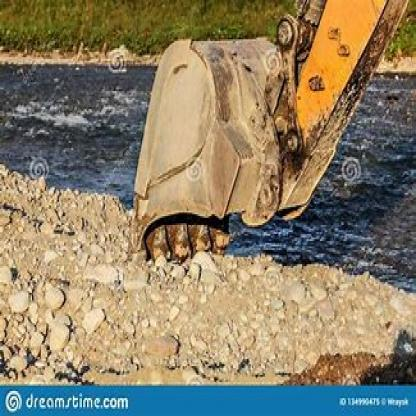excavator: (113, 15, 414, 278)
